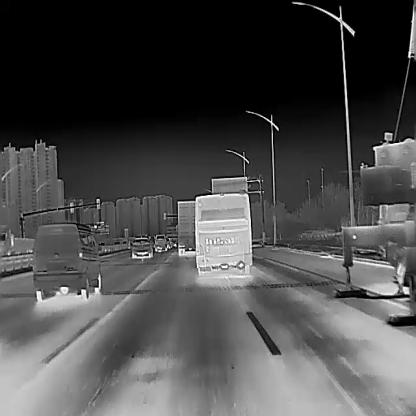bus: (194, 189, 252, 275)
car: (32, 223, 100, 300), (130, 236, 152, 258), (154, 232, 166, 252), (99, 241, 107, 247), (112, 239, 121, 244)
truck: (0, 225, 35, 255), (177, 200, 194, 260)
